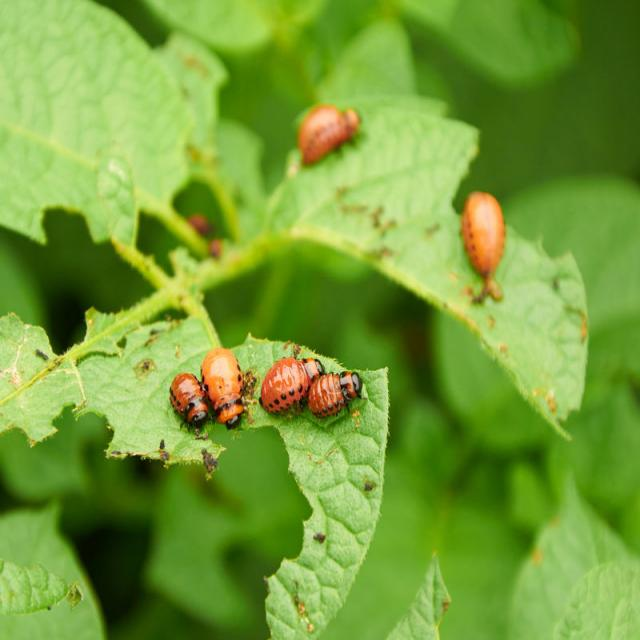ShuCaiHuaBanChong-Grown-: (200, 345, 257, 442), (256, 353, 328, 416), (161, 371, 217, 451)
ShuCaiHuaBanChong-Larva-: (310, 370, 364, 428)
